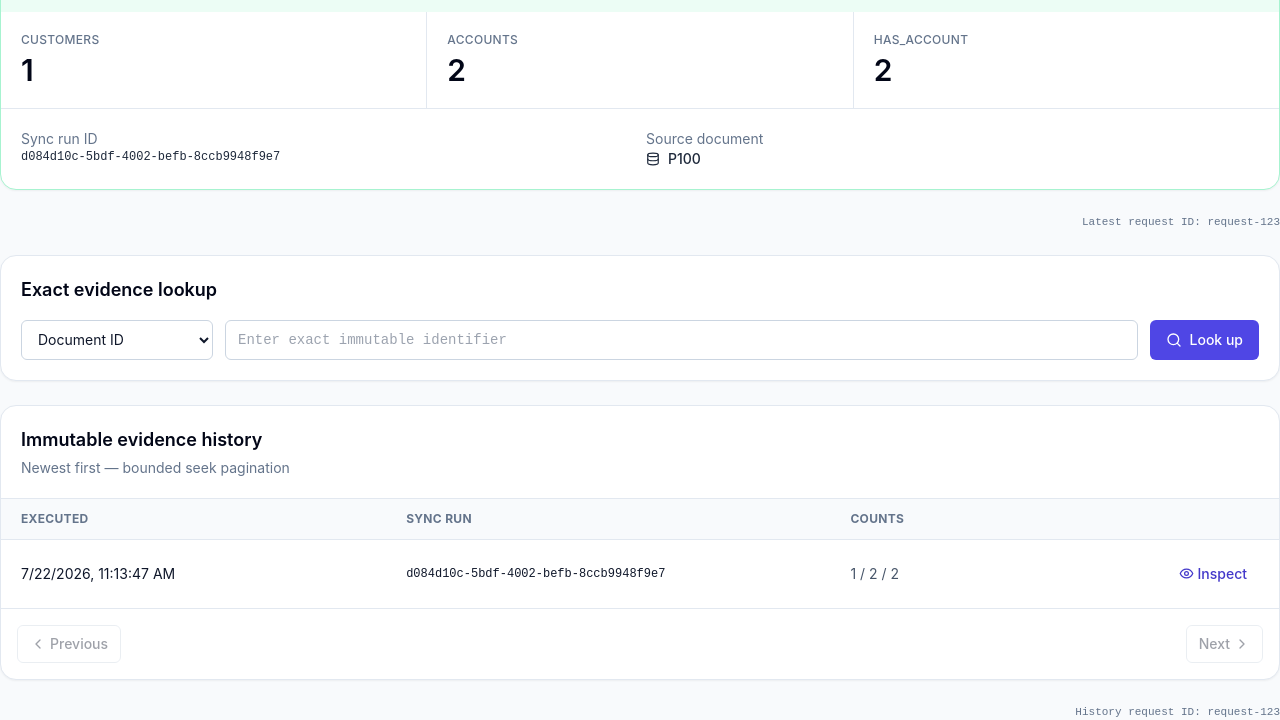
Test case: GraphEvidencePage › renders admin full evidence
(page scrolled)
Click the button "Inspect" at x=1213, y=574, box [1166,556,1259,592]
(page scrolled)
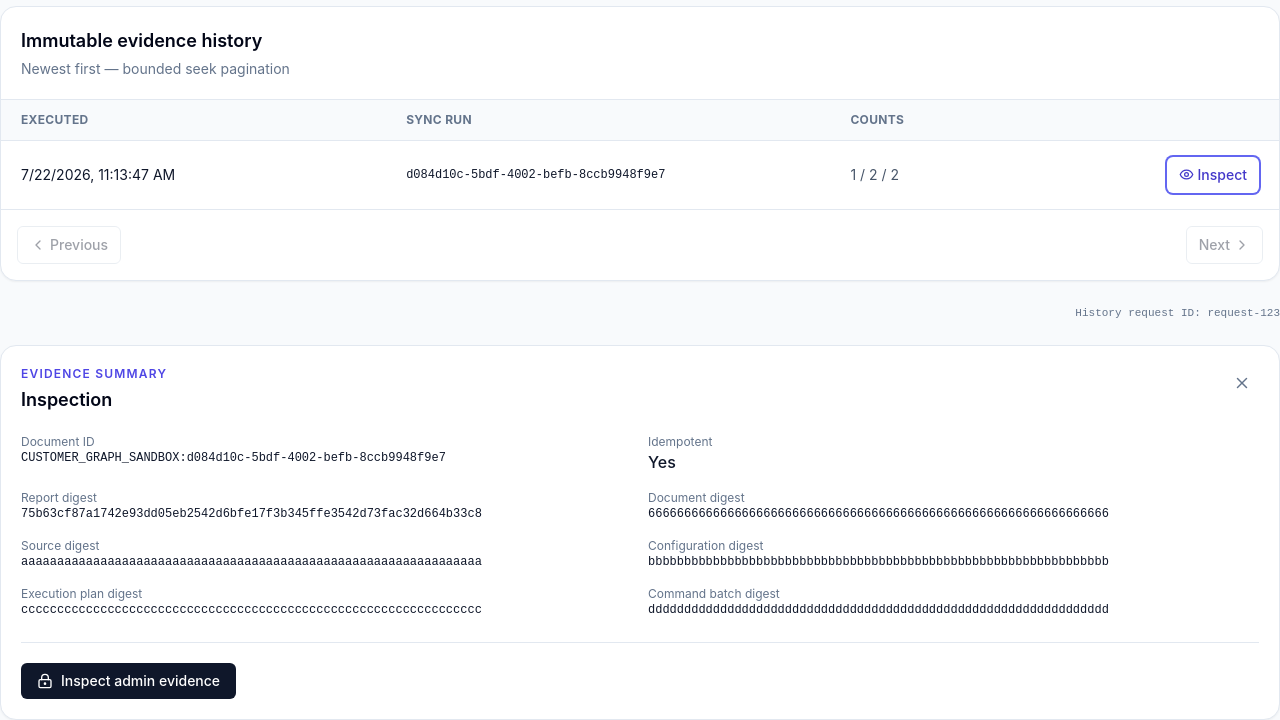
Click the button "Inspect admin evidence" at x=129, y=681, box [21,663,236,699]
(page scrolled)
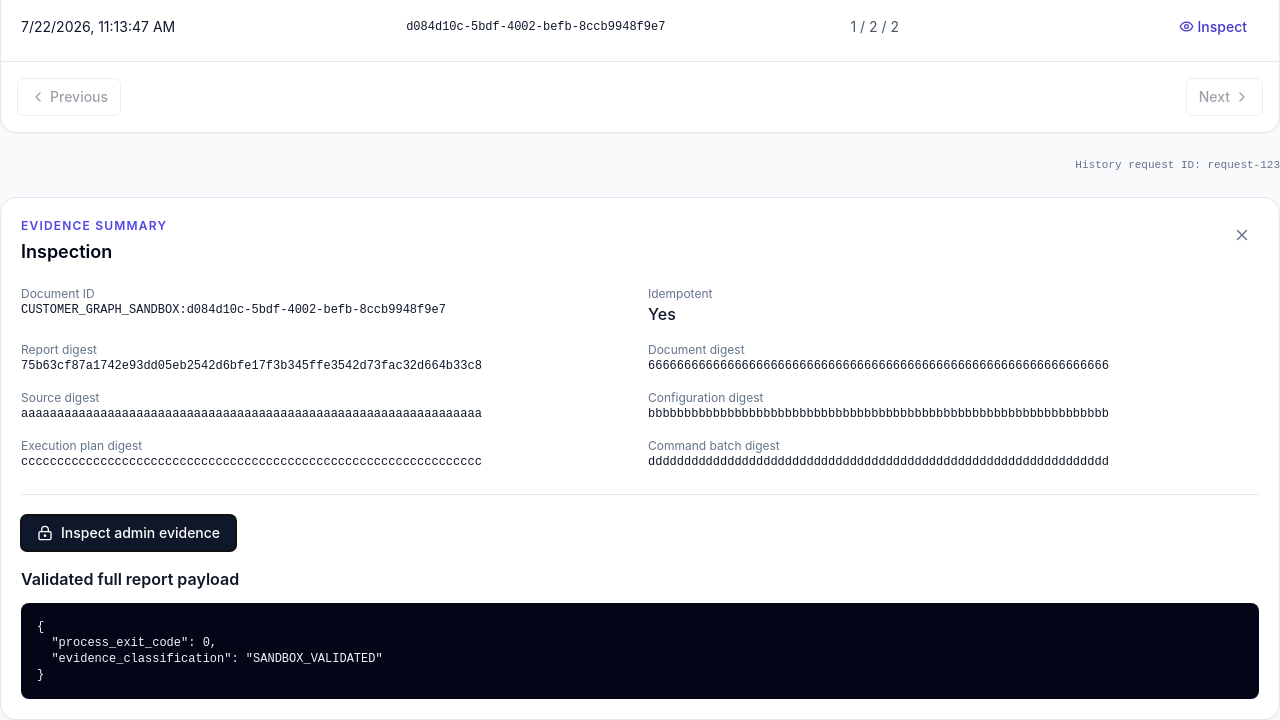
Result: the heading "Validated full report payload" is shown at [21,569,239,589]
Result: the text "process_exit_code" is shown at [37,620,383,682]
